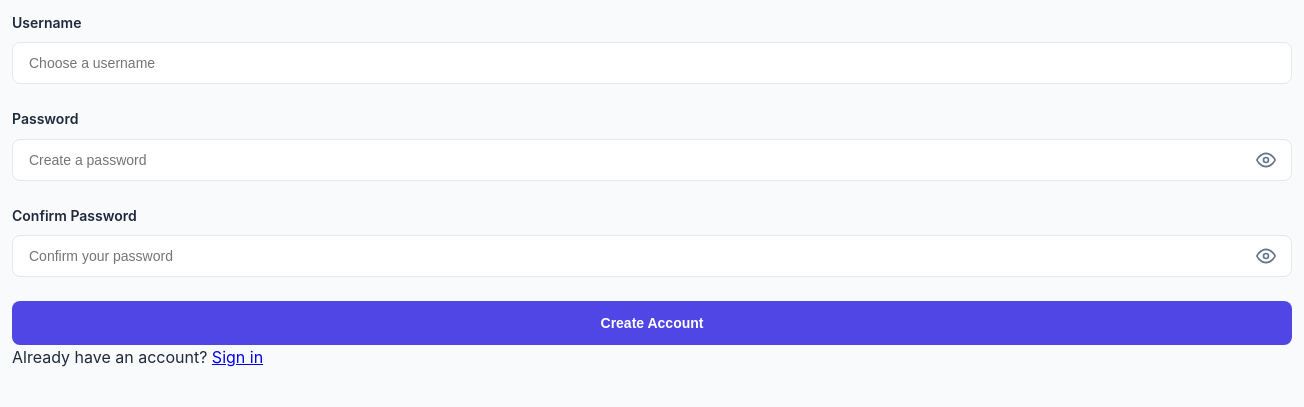
RegisterForm › Form validation › should show validation error for short password
Type "123" into the password field labelled "Password".
click(652, 160); type("123")  # box [12,139,1292,181]
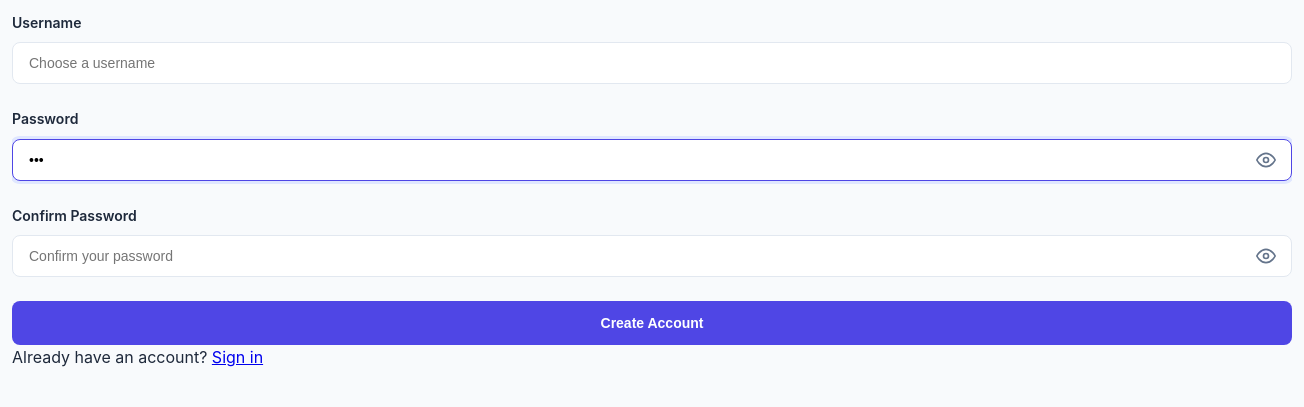
Press Tab
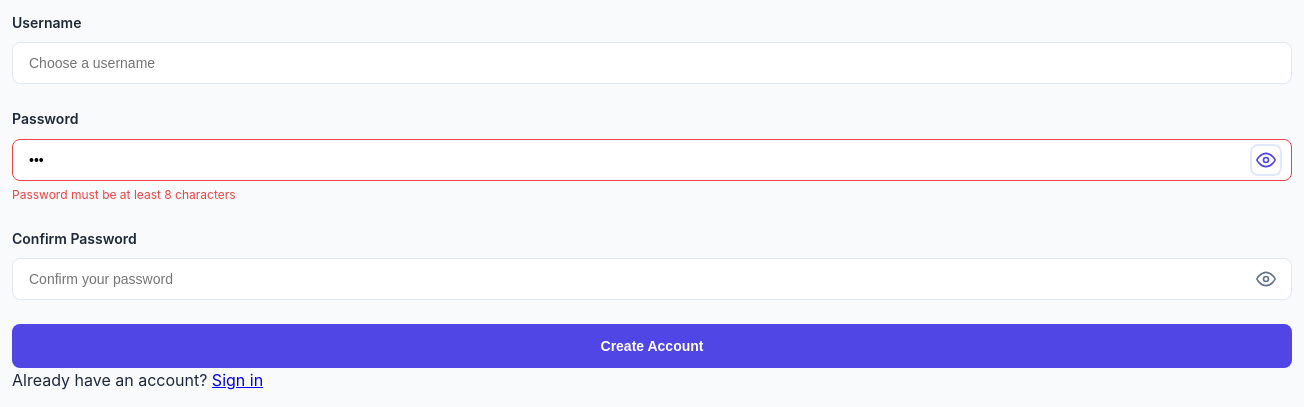
Check: the text "Password must be at least 8 characters" is shown, box [12,187,236,202]
